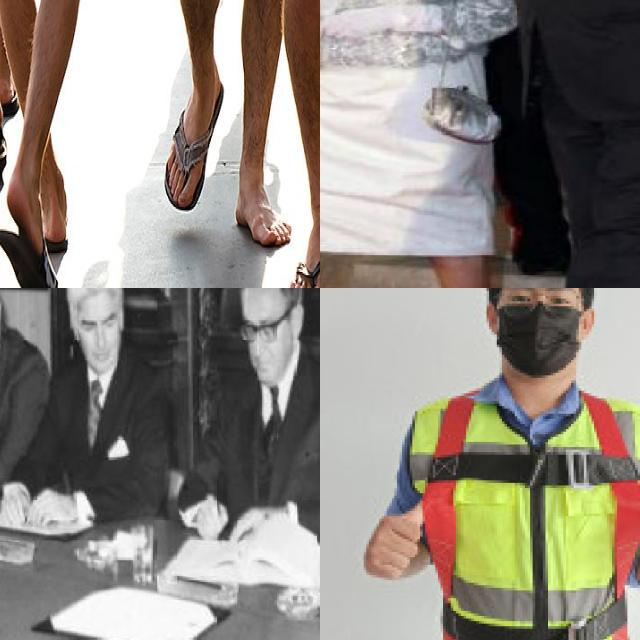Harness: (423, 390, 640, 640)
Sandals: (236, 164, 292, 247)
face_nomask: (67, 305, 131, 387), (242, 298, 292, 385)
glasses: (239, 320, 284, 349)
hand_glove: (320, 6, 409, 40)
hand_noglove: (228, 505, 281, 544), (28, 487, 73, 525), (198, 496, 228, 539), (1, 484, 30, 525)
head_nohelmet: (60, 288, 128, 302), (220, 288, 306, 298)
person: (320, 0, 499, 288), (463, 0, 640, 288), (26, 288, 185, 539), (192, 288, 320, 560), (0, 288, 49, 529)
